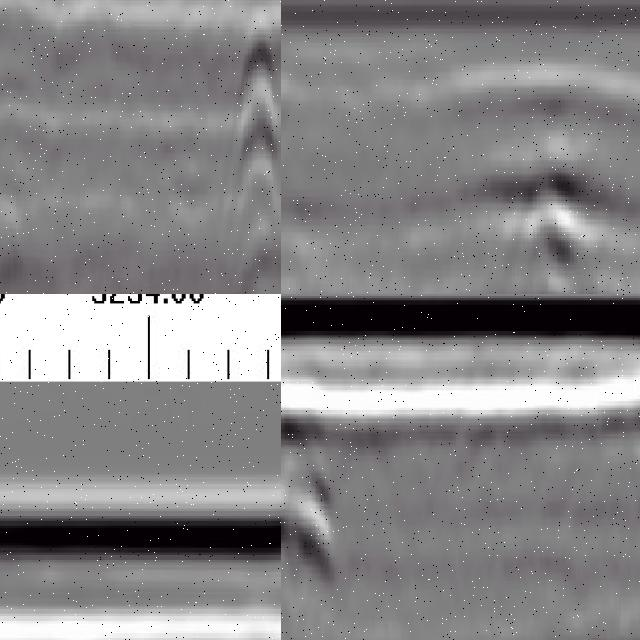crack: (236, 1, 278, 246)
loose: (460, 65, 635, 295), (282, 384, 341, 584)
